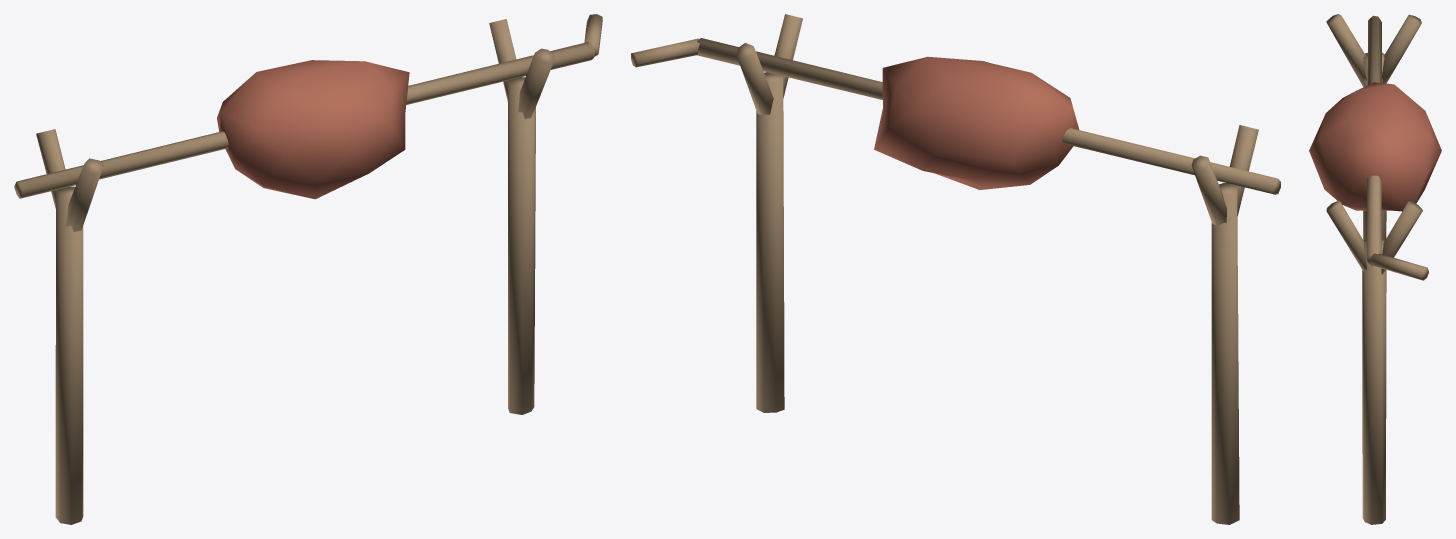
The model's file is camp_spit.glb.
3 views of the same model, side by side, from view 1: azimuth 30°, elevation 25°; view 2: azimuth 150°, elevation 25°; view 3: azimuth 270°, elevation 25° (orthographic). The views are drawn at different scales.
Parts seen in each view (by area): view 1: roast, stick, stick.001, bar, fork2, fork2.001, fork1, fork1.001; view 2: roast, stick.001, stick, bar, fork1.001, fork1, handle, fork2, fork2.001; view 3: roast, stick.001, bar, fork2, fork2.001, fork1, fork1.001, handle, stick.
Boxes of the visible parts, box(x1,y1,x2,y2) form: roast: box(217, 60, 409, 199); stick: box(55, 186, 83, 524); stick.001: box(508, 77, 535, 414); bar: box(14, 42, 594, 198); fork2: box(66, 158, 103, 231); fork2.001: box(518, 48, 554, 118); fork1: box(36, 129, 65, 208); fork1.001: box(489, 19, 516, 101); roast: box(874, 56, 1079, 189); stick.001: box(756, 72, 784, 412); stick: box(1211, 183, 1239, 524); bar: box(697, 38, 1280, 194); fork1.001: box(736, 43, 773, 115); fork1: box(1191, 155, 1226, 225); handle: box(631, 38, 699, 67); fork2: box(1226, 125, 1258, 216); fork2.001: box(774, 14, 802, 98); roast: box(1309, 82, 1441, 211); stick.001: box(1362, 239, 1386, 524); bar: box(1366, 15, 1381, 266); fork2: box(1326, 14, 1366, 87); fork2.001: box(1326, 200, 1366, 271); fork1: box(1382, 14, 1421, 83); fork1.001: box(1381, 201, 1422, 274); handle: box(1370, 253, 1428, 280); stick: box(1363, 52, 1386, 240).
Bounding box in the file's own units: 1.77 × 1.07 × 0.3912.
